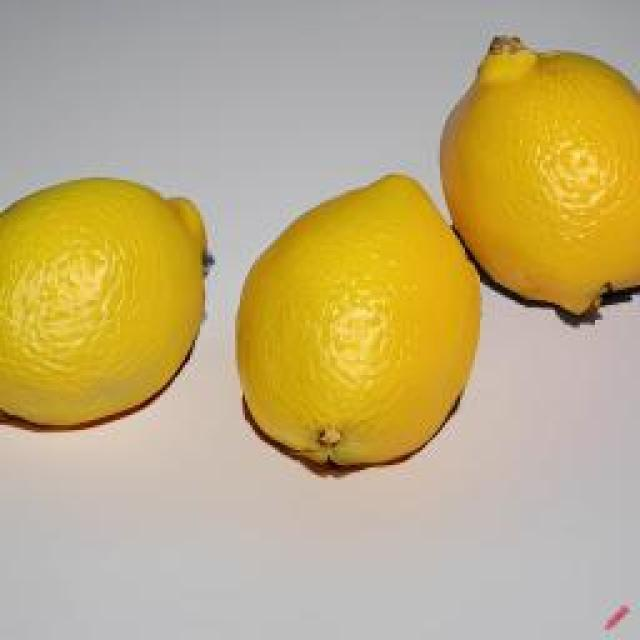Lemon: (234, 174, 483, 478), (438, 36, 640, 323), (0, 178, 211, 433)
